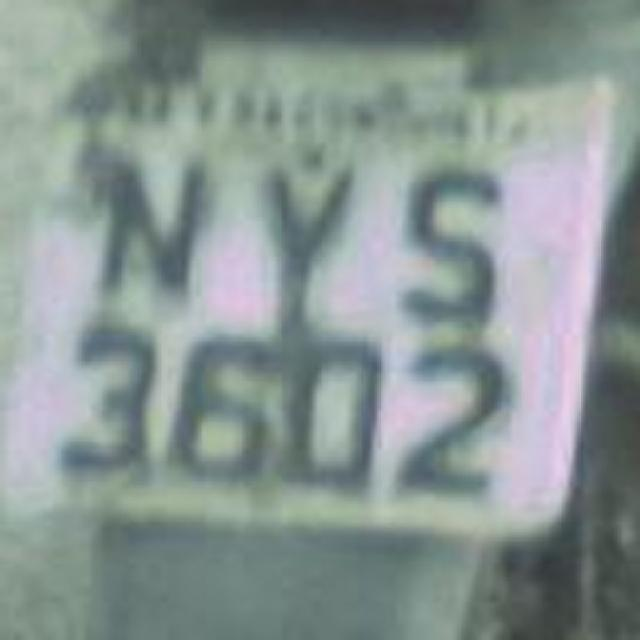2: (364, 324, 536, 524)
3: (36, 308, 172, 500)
6: (160, 312, 300, 500)
N: (72, 136, 212, 329)
S: (396, 160, 504, 332)
Y: (240, 140, 355, 332)
